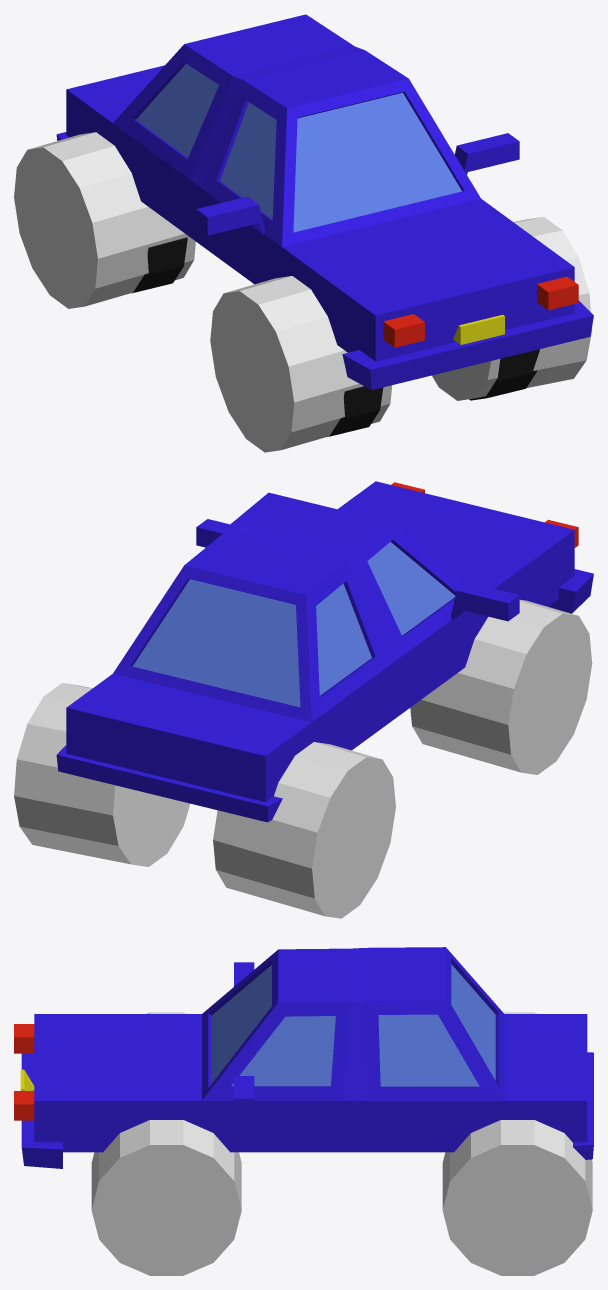
File: car.fbx
The picture shows the model from 3 angles, top to bottom: view 1: azimuth 30°, elevation 25°; view 2: azimuth 150°, elevation 25°; view 3: azimuth 270°, elevation 25°; orthographic projection. The views are drawn at different scales.
Visible parts, largest first — view 1: Cube, Cylinder, Cylinder.002, Cube.003, Cylinder.001, Cube.001, Cylinder.003, Cube.004; view 2: Cube, Cylinder.002, Cylinder, Cube.003; view 3: Cube, Cylinder, Cylinder.002, Cube.001, Cube.003.
Boxes of the visible parts, box(x1,y1,x2,y2) form: Cube: box(56, 14, 593, 389); Cylinder: box(210, 217, 592, 452); Cylinder.002: box(14, 132, 195, 308); Cube.003: box(196, 133, 519, 235); Cylinder.001: box(327, 349, 539, 436); Cube.001: box(383, 276, 578, 347); Cylinder.003: box(131, 237, 187, 293); Cube.004: box(453, 314, 504, 344); Cube: box(56, 481, 593, 822); Cylinder.002: box(14, 683, 395, 918); Cylinder: box(410, 599, 592, 774); Cube.003: box(196, 519, 519, 621); Cube: box(21, 947, 593, 1168); Cylinder: box(91, 1012, 241, 1275); Cylinder.002: box(442, 1012, 592, 1275); Cube.001: box(14, 1024, 34, 1120); Cube.003: box(234, 962, 254, 1114).
Size of the model in its own units: 313 by 258 by 564.
